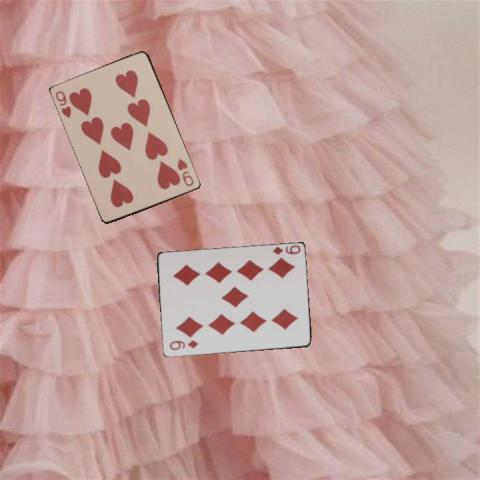9d: (167, 338, 199, 351), (270, 243, 302, 256)
9h: (175, 155, 195, 188), (53, 88, 73, 120)
